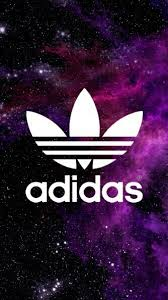adidas: (18, 86, 148, 207)
